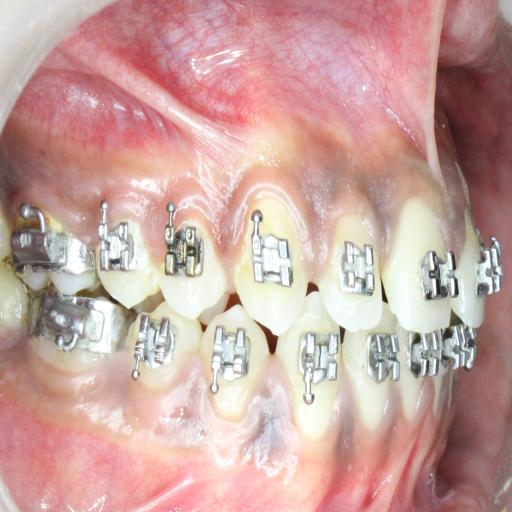correct_brace: (201, 306, 272, 420), (164, 200, 228, 326), (246, 214, 296, 294), (210, 326, 250, 401), (417, 242, 461, 304), (340, 234, 376, 302)
incorrect_brace: (322, 204, 386, 332), (164, 217, 205, 283)
